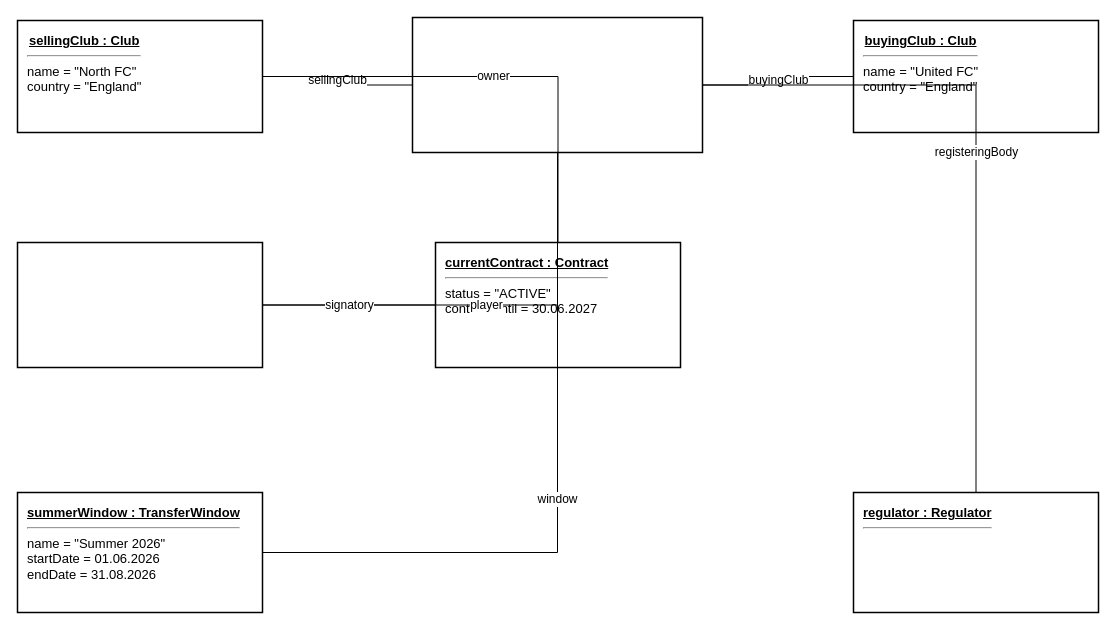
Some shapes in this 1117 by 631 pixel diagram are drawn without their labels. Each missing label, with the centre of its shape:
player : Player name = "Ivan Petrov" marketValue = 12 000 000 EUR: point (139, 304)
transfer : Transfer price = 10 000 000 EUR status = REGISTERED date = 15.08.2026: point (557, 84)
